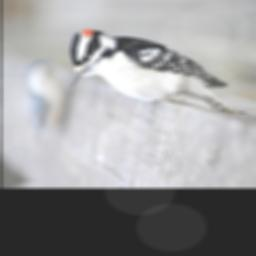Woodpecker: (59, 19, 250, 117)
